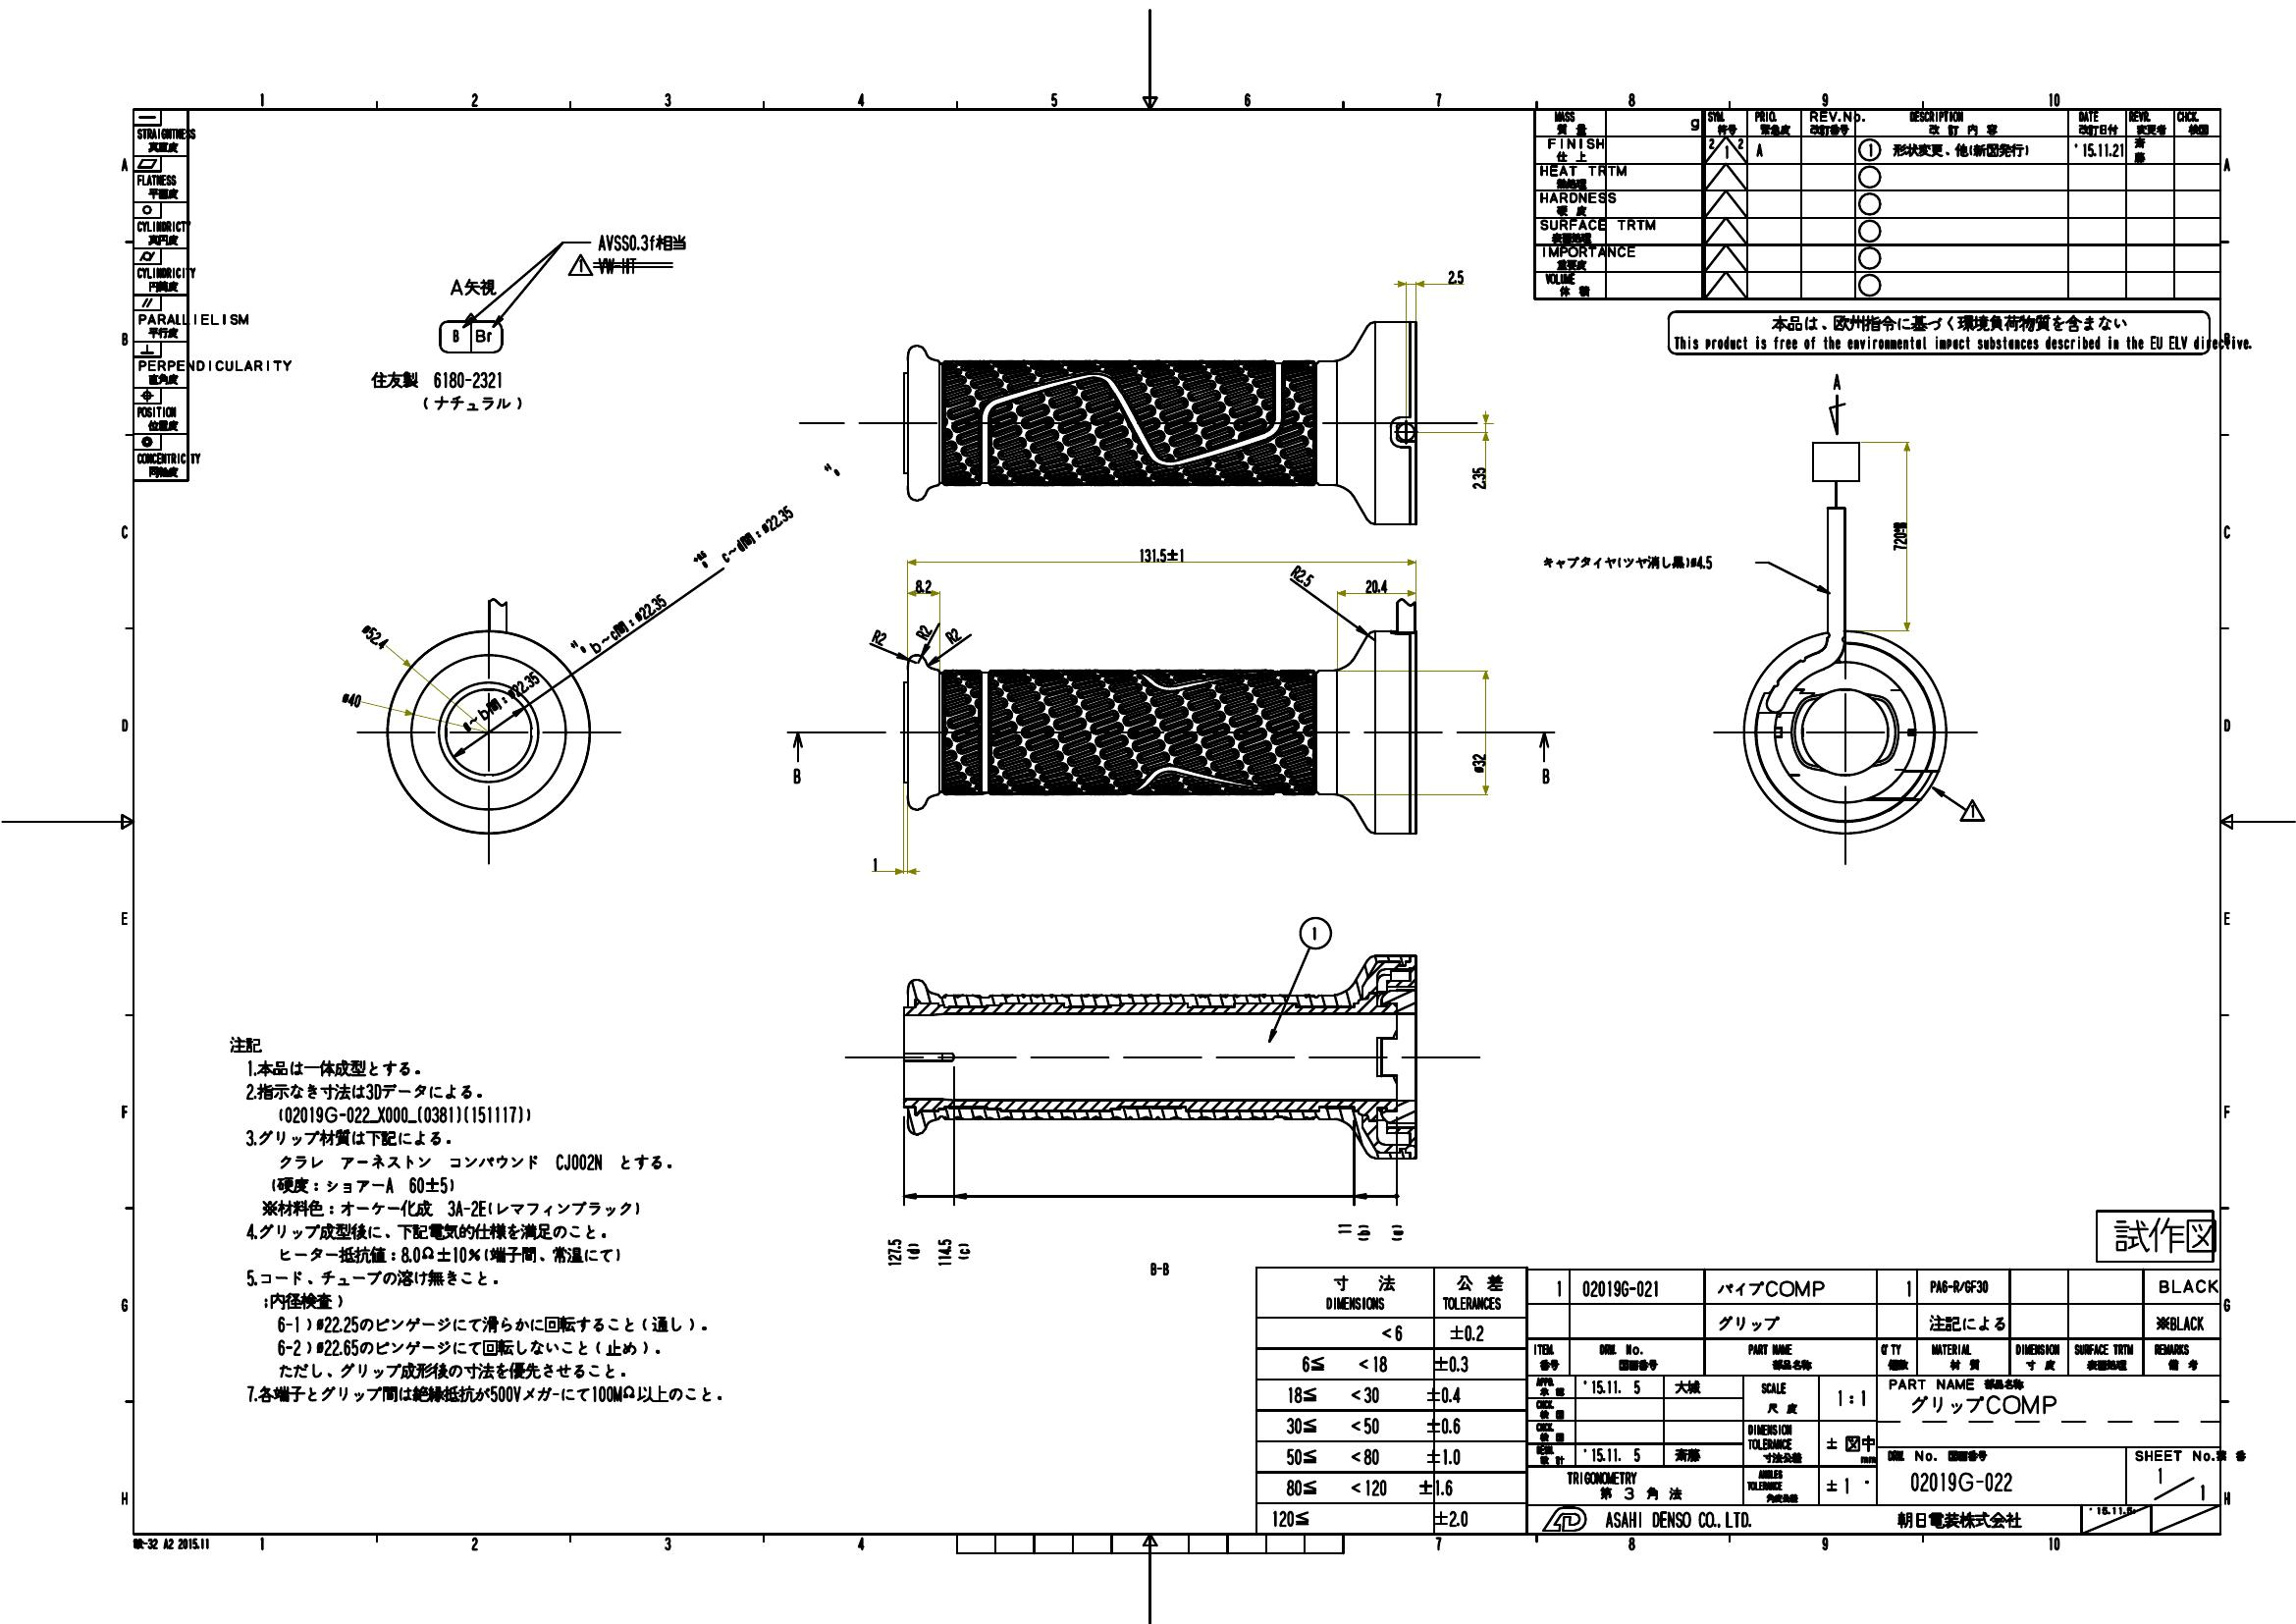anntotation_text: (223, 1030, 729, 1411), (1667, 308, 2210, 353), (371, 367, 525, 415), (2097, 1209, 2217, 1260), (569, 232, 689, 279), (1541, 554, 1713, 573), (132, 1536, 211, 1552), (448, 272, 497, 295), (1298, 916, 1332, 949), (585, 626, 638, 642), (457, 705, 509, 721), (715, 538, 766, 554), (1145, 1260, 1173, 1283), (1959, 800, 1985, 823), (1532, 765, 1555, 791), (789, 763, 808, 787), (474, 325, 494, 344), (1390, 1220, 1404, 1244), (956, 1241, 971, 1260), (448, 325, 464, 344), (1356, 1223, 1370, 1244), (906, 1243, 922, 1260), (1830, 373, 1843, 390)
dimension_text: (750, 483, 847, 510), (624, 573, 720, 599), (499, 659, 592, 680), (1138, 547, 1188, 562), (360, 626, 390, 643), (1467, 464, 1486, 490), (887, 1237, 903, 1267), (936, 1237, 952, 1267), (1361, 576, 1391, 592), (1892, 517, 1906, 550), (1291, 566, 1314, 584), (339, 691, 364, 707), (1470, 752, 1486, 773), (1446, 269, 1465, 285), (868, 629, 889, 643), (945, 627, 963, 643), (913, 576, 931, 592), (915, 624, 931, 640), (1333, 1222, 1351, 1234), (871, 852, 880, 872)
object: (905, 598, 1418, 833), (903, 956, 1418, 1160), (905, 322, 1416, 526), (1739, 443, 1948, 835), (388, 598, 588, 835), (437, 320, 502, 353)
title_block: (1256, 1267, 2222, 1534), (1535, 107, 2222, 299), (132, 107, 188, 482)
